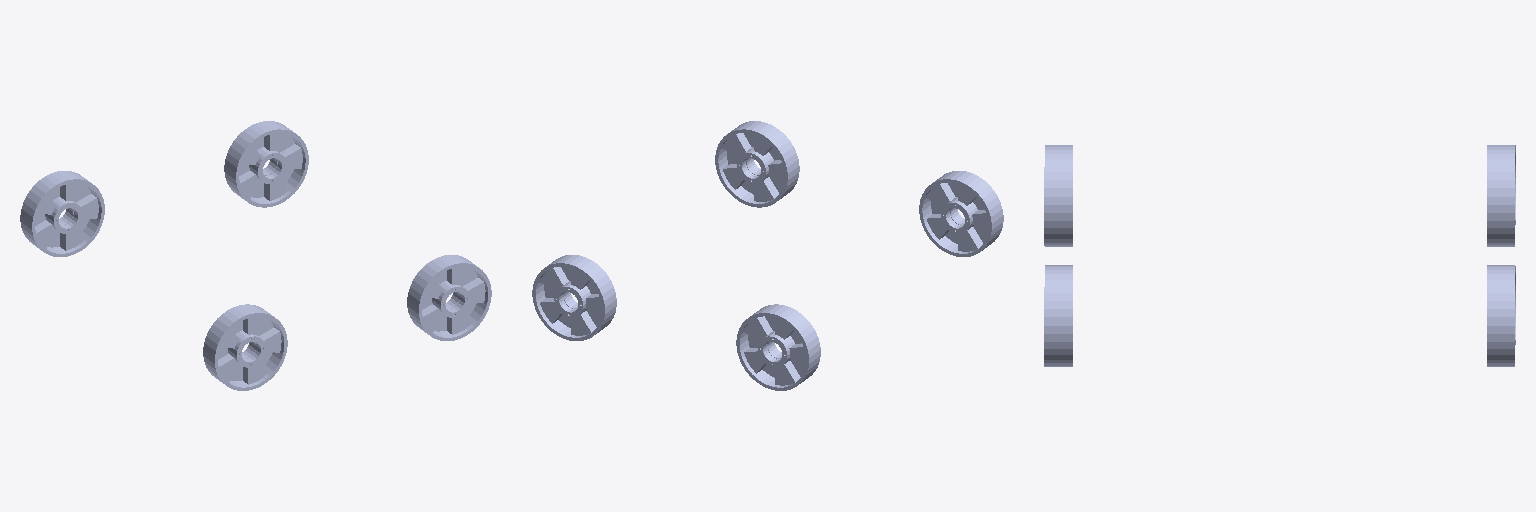
The robot description file, URDF, robot "AGRIBOT":
<?xml version="1.0" encoding="utf-8"?>
     
<robot
  name="AGRIBOT">

<link name="dummy"> </link>
  <link
    name="base_link">
    <inertial>
      <origin
        xyz="0.00029276 -0.052792 0.0016848"
        rpy="0 0 0" />
      <mass
        value="3.4672" />
      <inertia
        ixx="0.045731"
        ixy="-1.5439E-12"
        ixz="-8.4448E-09"
        iyy="0.077236"
        iyz="1.5494E-12"
        izz="0.049938" />
    </inertial>
    <visual>
      <origin
        xyz="0 0 .30"
        rpy="1.57 0 0" />
      <geometry>
        <mesh
          filename="package://urdf/meshes/base_link.STL" />
      </geometry>
      <material
        name="">
        <color
          rgba="0.7539 0.6015625 0.41796875 1" />
      </material>
    </visual>
    <collision>
      <origin
        xyz="0 0 0"
        rpy="0 0 0" />
      <geometry>
        <mesh
          filename="package://urdf/meshes/base_link.STL" />
      </geometry>
    </collision>
  </link>

<joint name="dummy_joint" type="fixed">
	<parent link="dummy"/>
	<child link="base_link"/>
</joint>

  <link
    name="wheel_1">
    <inertial>
      <origin
        xyz="1.6567E-05 -1.6653E-16 2.2204E-16"
        rpy="0 0 0" />
      <mass
        value="0.411" />
      <inertia
        ixx="0.0020959"
        ixy="-4.2986E-19"
        ixz="3.5506E-19"
        iyy="0.00113"
        iyz="-1.9664E-18"
        izz="0.00113" />
    </inertial>
    <visual>
      <origin
        xyz="0 0 0"
        rpy="0 0 0" />
      <geometry>
        <mesh
          filename="package://urdf/meshes/wheel_1.STL" />
      </geometry>
      <material
        name="">
        <color
          rgba="0.79608 0.82353 0.93725 1" />
      </material>
    </visual>
    <collision>
      <origin
        xyz="0 0 0"
        rpy="0 0 0" />
      <geometry>
        <mesh
          filename="package://urdf/meshes/wheel_1.STL" />
      </geometry>
    </collision>
  </link>
  <joint
    name="1"
    type="continuous">
    <origin
      xyz="0.2519 -0.3908 0.1092"
      rpy="0 0 1.57" />
    <parent
      link="base_link" />
    <child
      link="wheel_1" />
    <axis
      xyz="-1 0 0" />
    <limit
      lower="0"
      upper="3.14"
      effort="0.1"
      velocity="0.1" />
  </joint>


  <link
    name="wheel_2">
    <inertial>
      <origin
        xyz="1.6567E-05 -1.6653E-16 2.2204E-16"
        rpy="0 0 0" />
      <mass
        value="0.411" />
      <inertia
        ixx="0.0020959"
        ixy="-4.2986E-19"
        ixz="3.5506E-19"
        iyy="0.00113"
        iyz="-1.9664E-18"
        izz="0.00113" />
    </inertial>
    <visual>
      <origin
        xyz="0 0 0"
        rpy="0 0 0" />
      <geometry>
        <mesh
          filename="package://urdf/meshes/wheel_1.STL" />
      </geometry>
      <material
        name="">
        <color
          rgba="0.79608 0.82353 0.93725 1" />
      </material>
    </visual>
    <collision>
      <origin
        xyz="0 0 0"
        rpy="0 0 0" />
      <geometry>
        <mesh
          filename="package://urdf/meshes/wheel_1.STL" />
      </geometry>
    </collision>
  </link>
  <joint
    name="2"
    type="continuous">
    <origin
     xyz="0.2519 0.3908 0.1092"
      rpy="0 0 1.57"  />
    <parent
      link="base_link" />
    <child
      link="wheel_2" />
    <axis
      xyz="-1 0 0" />
    <limit
      lower="0"
      upper="3.14"
      effort="0.1"
      velocity="0.1" />
  </joint>

  <link
    name="wheel_3">
    <inertial>
      <origin
        xyz="1.6567E-05 -1.6653E-16 2.2204E-16"
        rpy="0 0 0" />
      <mass
        value="0.411" />
      <inertia
        ixx="0.0020959"
        ixy="-4.2986E-19"
        ixz="3.5506E-19"
        iyy="0.00113"
        iyz="-1.9664E-18"
        izz="0.00113" />
    </inertial>
    <visual>
      <origin
        xyz="0 0 0"
        rpy="0 0 0" />
      <geometry>
        <mesh
          filename="package://urdf/meshes/wheel_1.STL" />
      </geometry>
      <material
        name="">
        <color
          rgba="0.79608 0.82353 0.93725 1" />
      </material>
    </visual>
    <collision>
      <origin
        xyz="0 0 0"
        rpy="0 0 0" />
      <geometry>
        <mesh
          filename="package://urdf/meshes/wheel_1.STL" />
      </geometry>
    </collision>
  </link>
  <joint
    name="3"
    type="continuous">
    <origin
      xyz="-0.2519 -0.3908 0.1092"
      rpy="0 0 1.57"  />
    <parent
      link="base_link" />
    <child
      link="wheel_3" />
    <axis
      xyz="-1 0 0" />
    <limit
      lower="0"
      upper="3.14"
      effort="0.1"
      velocity="0.1" />
  </joint>

  <link
    name="wheel_4">
    <inertial>
      <origin
        xyz="1.6567E-05 -1.6653E-16 2.2204E-16"
        rpy="0 0 0" />
      <mass
        value="0.411" />
      <inertia
        ixx="0.0020959"
        ixy="-4.2986E-19"
        ixz="3.5506E-19"
        iyy="0.00113"
        iyz="-1.9664E-18"
        izz="0.00113" />
    </inertial>
    <visual>
      <origin
        xyz="0 0 0"
        rpy="0 0 0" />
      <geometry>
        <mesh
          filename="package://urdf/meshes/wheel_1.STL" />
      </geometry>
      <material
        name="">
        <color
          rgba="0.79608 0.82353 0.93725 1" />
      </material>
    </visual>
    <collision>
      <origin
        xyz="0 0 0"
        rpy="0 0 0" />
      <geometry>
        <mesh
          filename="package://urdf/meshes/wheel_1.STL" />
      </geometry>
    </collision>
  </link>
  <joint
    name="4"
    type="continuous">
    <origin
     xyz="-0.2519 0.3908 0.1092"
      rpy="0 0 1.57"  />
    <parent
      link="base_link" />
    <child
      link="wheel_4" />
    <axis
      xyz="-1 0 0" />
    <limit
      lower="0"
      upper="3.14"
      effort="0.1"
      velocity="0.1" />
  </joint>
</robot>

--- What the picture shows (computed from the rendered views, not written in the file) ---
The picture shows the robot from 3 angles, left to right: view 1: azimuth 30°, elevation 25°; view 2: azimuth 150°, elevation 25°; view 3: azimuth 270°, elevation 25°; orthographic projection.
Robot: AGRIBOT — 6 links, 5 joints (4 continuous, 1 fixed); root link dummy; default pose: every joint at zero.
Visible links, largest first — view 1: wheel_2, wheel_3, wheel_1, wheel_4; view 2: wheel_1, wheel_4, wheel_2, wheel_3; view 3: wheel_1, wheel_4, wheel_2, wheel_3.
Boxes of the visible links, left/top/right/bottom form: wheel_2: left=224, top=121, right=308, bottom=207; wheel_3: left=203, top=304, right=287, bottom=390; wheel_1: left=407, top=255, right=491, bottom=340; wheel_4: left=20, top=171, right=104, bottom=256; wheel_1: left=715, top=121, right=799, bottom=207; wheel_4: left=736, top=304, right=820, bottom=390; wheel_2: left=532, top=255, right=616, bottom=340; wheel_3: left=919, top=171, right=1003, bottom=256; wheel_1: left=1044, top=265, right=1072, bottom=366; wheel_4: left=1487, top=145, right=1515, bottom=246; wheel_2: left=1487, top=265, right=1515, bottom=366; wheel_3: left=1044, top=145, right=1072, bottom=246.
Size in the robot's own frame: 0.6832 by 0.8317 by 0.18 metres.
4 mesh visuals loaded from 2 distinct referenced files (1 binary STL); not drawn: 1 (reference not matched to a file when rendering).